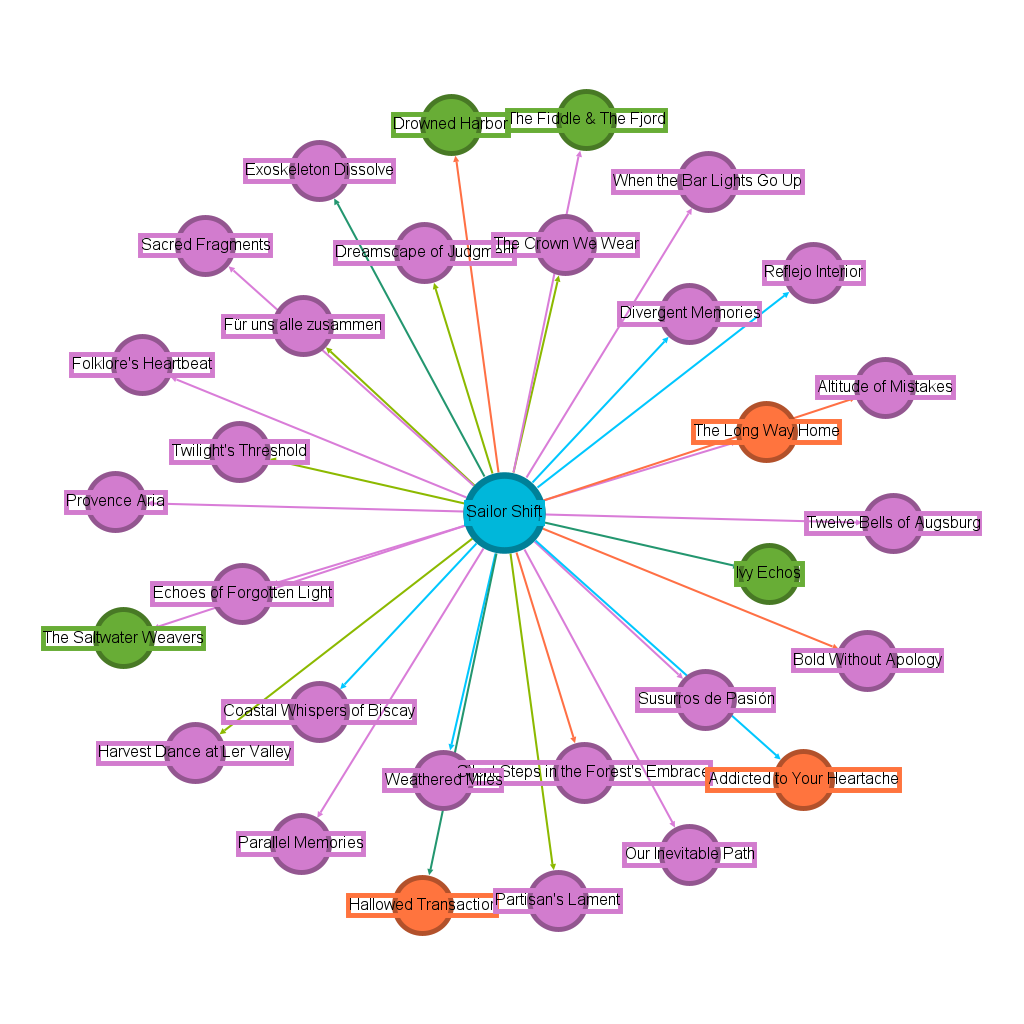

This screenshot's page, from the dashboard's own definition file:
{"tool":"tableau","page":{"name":"Sailor Shift intro","canvas":[1000,1000],"units":"permille","ordinal":5},"visuals":[{"type":"worksheet","title":"01_Sailor_Career_Trajectory","mark":"Circle","rows":["genre"],"cols":["release_year"],"box":[4.8,9.2,990.3,981.6]}]}

Visuals, with their boxes on the dashboard's canvas, which has no fixed pixel size, in thousandths of its width and height (x1, y1, x2, y2). These are canvas units, not pixel positions in the 1024x1024 screenshot, which may show the page scaled, cropped or inside an application window:
"01_Sailor_Career_Trajectory" worksheet (Circle marks): [left=5, top=9, right=995, bottom=991]
